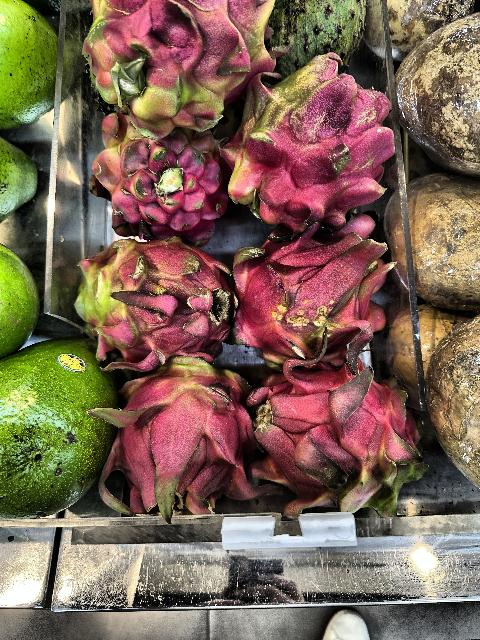buah-naga-belum-matang: (240, 58, 400, 230), (106, 356, 253, 516), (76, 0, 276, 116), (72, 232, 230, 356), (93, 119, 235, 244)
buah-naga-matang: (253, 364, 429, 516), (233, 230, 385, 362)
